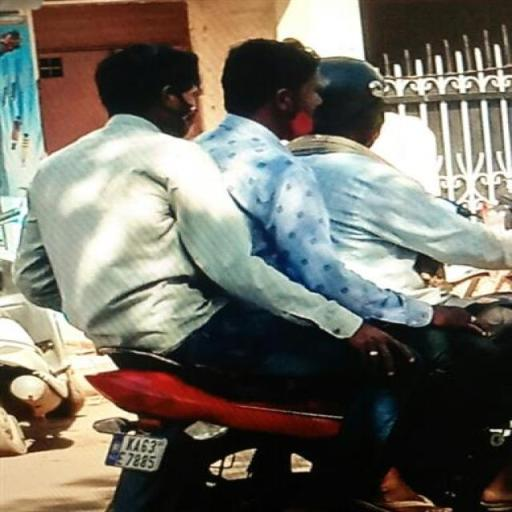tripple riding: (0, 35, 512, 346)
